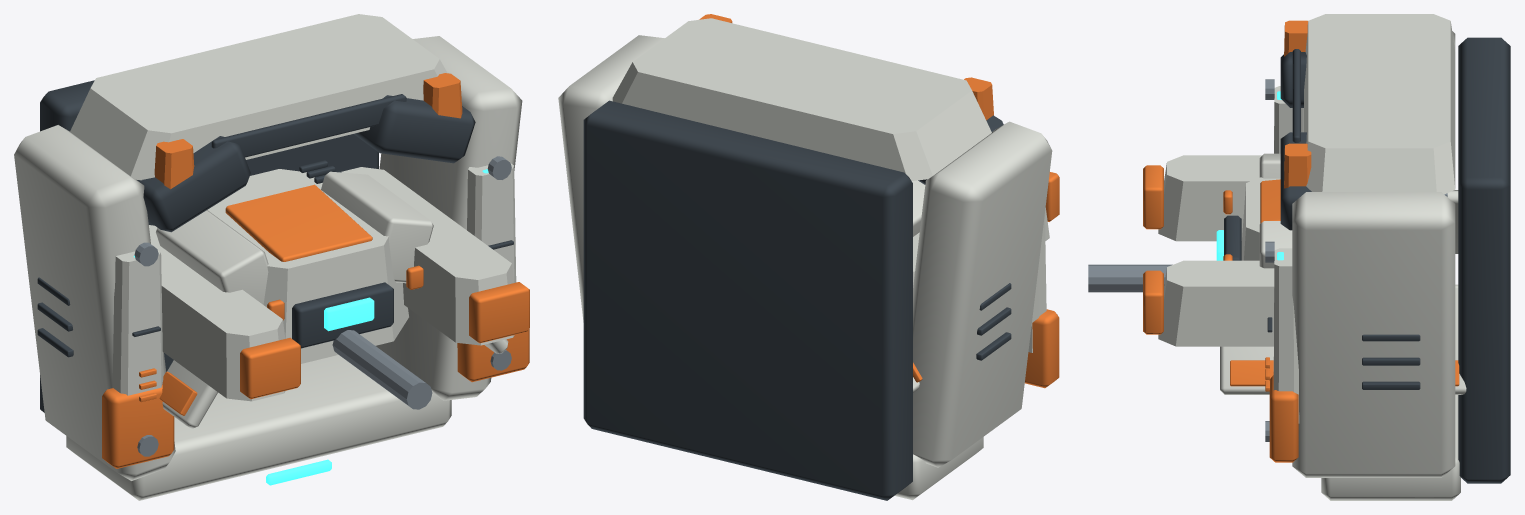
The model's file is VXDR_INTERCEPT_v003_DOCKED.fbx.
3 views of the same model, side by side, from view 1: azimuth 30°, elevation 25°; view 2: azimuth 150°, elevation 25°; view 3: azimuth 270°, elevation 25° (orthographic). The views are drawn at different scales.
Visible parts, largest first — view 1: Docked_Faceted top bridge, Docked_Cradle armored rail, Docked_Bottom charging bridge, Docked_Cradle armored rail.001, Docked_Interceptor swept pylon, Docked_Faceted sensor hull, Docked_Interceptor swept pylon.001, Docked_Top identification, Docked_Side armor panel, Docked_Sloped cheek armor, Docked_Angled cradle brow, Docked_Sloped cheek armor.001 (+16 smaller); view 2: Docked_Body mounting plate, Docked_Cradle armored rail, Docked_Faceted top bridge, Docked_Cradle armored rail.001, Docked_Rail orange latch, Docked_Bottom charging bridge, Docked_Side armor panel, Docked_Top orange lock, Docked_Pylon nose; view 3: Docked_Cradle armored rail.001, Docked_Faceted top bridge, Docked_Body mounting plate, Docked_Interceptor swept pylon.001, Docked_Interceptor swept pylon, Docked_Bottom charging bridge, Docked_Side armor panel.001, Docked_Rail orange latch.001, Docked_Interceptor barrel, Docked_Faceted sensor hull, Docked_Foldable stabilizer.002, Docked_Pylon nose (+15 smaller).
Boxes of the visible parts, x1,y1,x2,y2 form: Docked_Faceted top bridge: [70, 14, 447, 180]; Docked_Cradle armored rail: [14, 125, 175, 480]; Docked_Bottom charging bridge: [66, 355, 451, 500]; Docked_Cradle armored rail.001: [376, 36, 522, 400]; Docked_Interceptor swept pylon: [149, 225, 285, 401]; Docked_Faceted sensor hull: [207, 169, 408, 363]; Docked_Interceptor swept pylon.001: [341, 167, 514, 345]; Docked_Top identification: [225, 184, 372, 261]; Docked_Side armor panel: [112, 249, 163, 395]; Docked_Sloped cheek armor: [156, 210, 268, 304]; Docked_Angled cradle brow: [137, 136, 250, 232]; Docked_Sloped cheek armor.001: [321, 171, 433, 283]; Docked_Body mounting plate: [583, 100, 912, 500]; Docked_Cradle armored rail: [913, 121, 1052, 467]; Docked_Faceted top bridge: [612, 18, 991, 180]; Docked_Cradle armored rail.001: [558, 35, 664, 322]; Docked_Rail orange latch: [1025, 309, 1059, 388]; Docked_Bottom charging bridge: [894, 437, 983, 500]; Docked_Side armor panel: [1028, 214, 1046, 352]; Docked_Top orange lock: [964, 77, 993, 120]; Docked_Pylon nose: [1045, 172, 1059, 221]; Docked_Cradle armored rail.001: [1292, 192, 1455, 477]; Docked_Faceted top bridge: [1304, 14, 1455, 194]; Docked_Body mounting plate: [1458, 37, 1510, 483]; Docked_Interceptor swept pylon.001: [1158, 260, 1274, 346]; Docked_Interceptor swept pylon: [1158, 155, 1261, 241]; Docked_Bottom charging bridge: [1321, 395, 1460, 500]; Docked_Side armor panel.001: [1273, 248, 1299, 423]; Docked_Rail orange latch.001: [1269, 375, 1298, 462]; Docked_Interceptor barrel: [1088, 264, 1172, 292]; Docked_Faceted sensor hull: [1241, 177, 1280, 260]; Docked_Foldable stabilizer.002: [1220, 346, 1273, 394]; Docked_Pylon nose: [1143, 165, 1163, 229].
Size of the model in its own units: 40.81 by 33.85 by 36.25.
